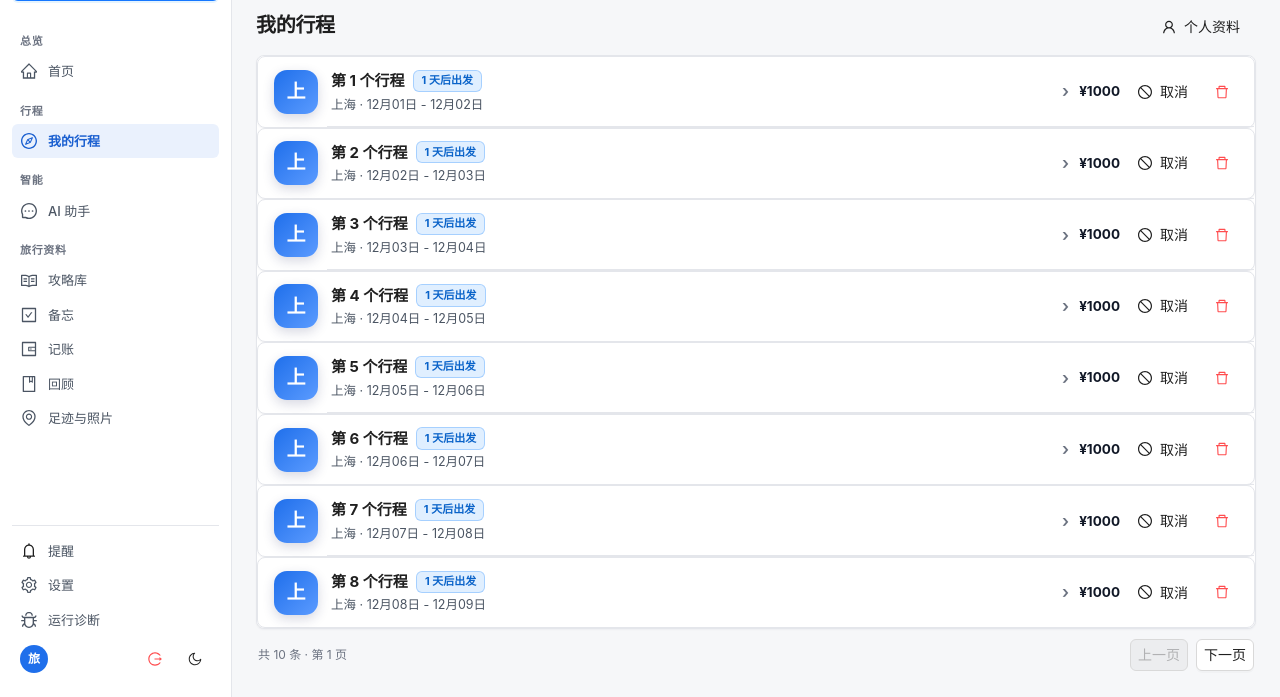
it: Travel · 我的行程（筛选 / 搜索 / 分页，阶段 B） › 行程多于单页时渲染翻页条，翻页后显示下一页
(page scrolled)
Expected: the text "共 10 条 · 第 1 页" is shown, [258, 646, 347, 665]
Expected: the text "第 1 个行程" is shown, [331, 69, 405, 93]
What coordinates should you click on to do the following:
click the button "下一页"
I would click on:
 (1225, 656)
Its box is [1196, 640, 1254, 672].
(page scrolled)
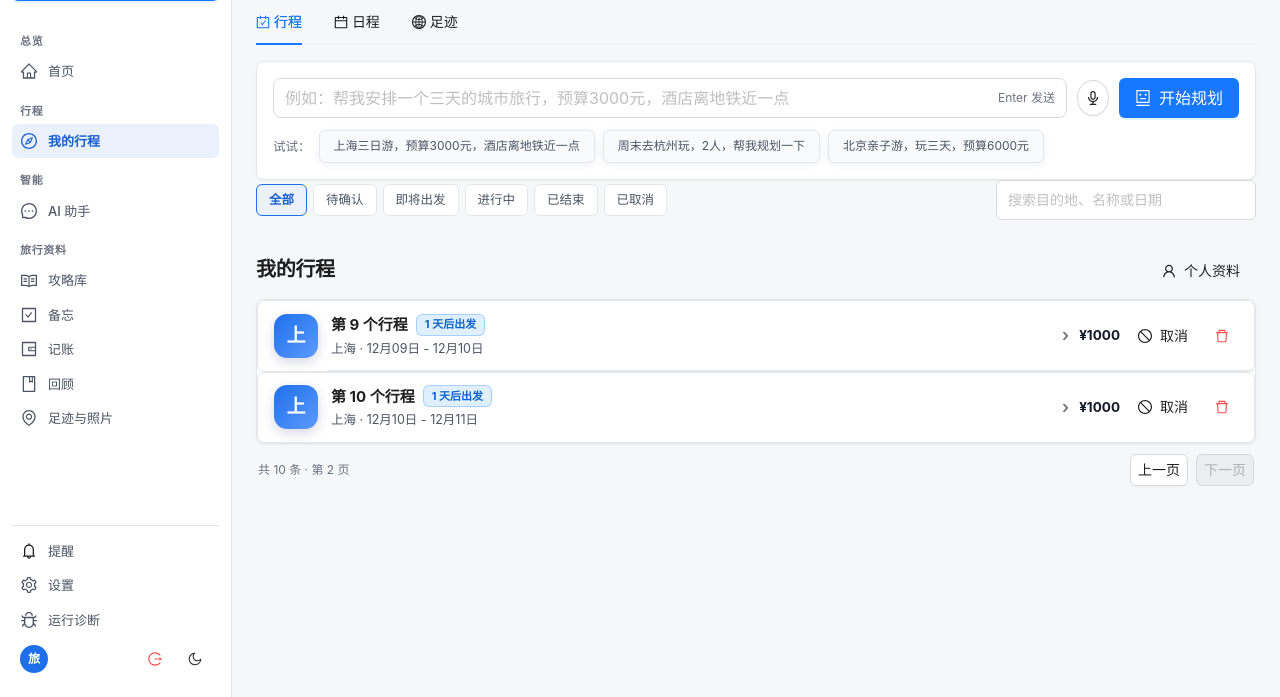
Expected: the text "第 9 个行程" is shown, [331, 313, 408, 337]
Expected: the button "第 1 个行程" is gone
